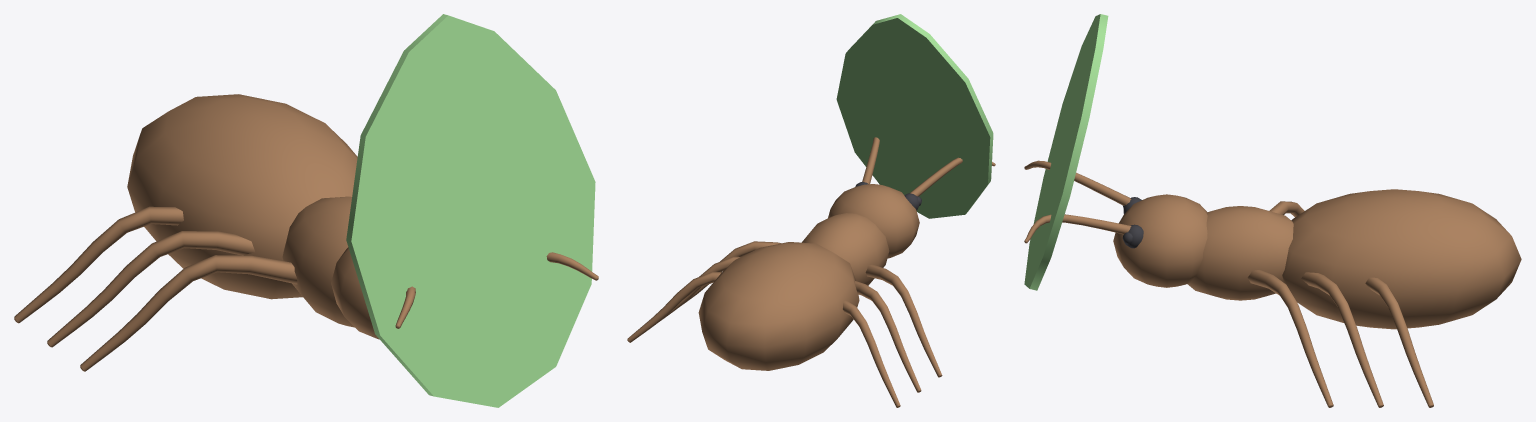
The model's file is reptiles-amphibians-and-minibeasts-leaf-cutter-ant-wit-4af344de__22460.glb.
3 views of the same model, side by side, from view 1: azimuth 30°, elevation 25°; view 2: azimuth 150°, elevation 25°; view 3: azimuth 270°, elevation 25° (orthographic). The views are drawn at different scales.
Parts seen in each view (by area): view 1: leaf-cutter-ant-with-leaf; view 2: leaf-cutter-ant-with-leaf; view 3: leaf-cutter-ant-with-leaf.
Part boxes in pixels (box(x1,y1,x2,y2)): leaf-cutter-ant-with-leaf: box(14, 14, 598, 407); leaf-cutter-ant-with-leaf: box(627, 14, 995, 407); leaf-cutter-ant-with-leaf: box(1024, 14, 1521, 407).
Size of the model in its own units: 0.0191 by 0.0175 by 0.025.
